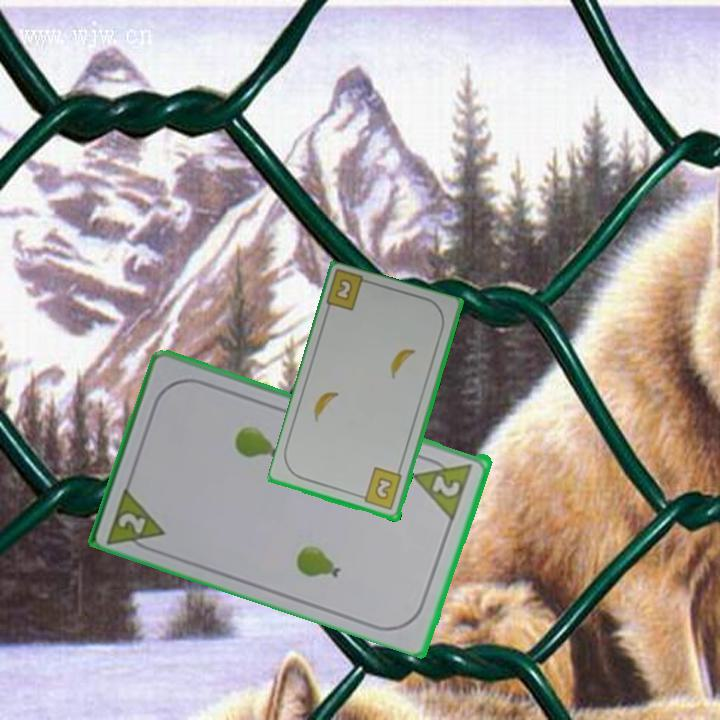2b: (355, 465, 405, 513), (331, 275, 356, 304)
2p: (429, 471, 464, 500), (114, 508, 149, 537)
